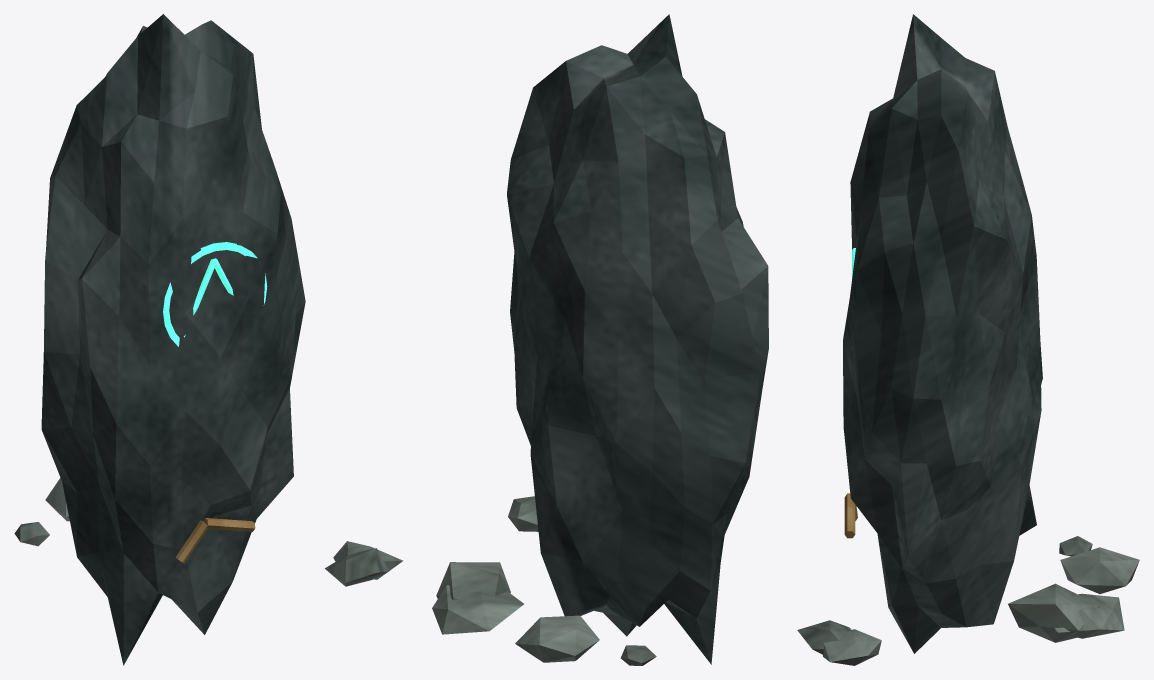
The model's file is 0651_waystone_01.glb.
The picture shows the model from 3 angles, left to right: view 1: azimuth 30°, elevation 25°; view 2: azimuth 150°, elevation 25°; view 3: azimuth 270°, elevation 25°; orthographic projection. The views are drawn at different scales.
Visible parts, largest first — view 1: stone_dark, stone, glow, brass; view 2: stone_dark, stone; view 3: stone_dark, stone, brass.
Part boxes in pixels (x1=…): stone_dark: x1=41, y1=14, x2=305, y2=665; stone: x1=14, y1=478, x2=403, y2=586; glow: x1=163, y1=242, x2=267, y2=346; brass: x1=175, y1=518, x2=255, y2=562; stone_dark: x1=507, y1=14, x2=768, y2=664; stone: x1=432, y1=496, x2=656, y2=665; stone_dark: x1=843, y1=14, x2=1042, y2=653; stone: x1=797, y1=536, x2=1139, y2=665; brass: x1=844, y1=493, x2=857, y2=538.
Size of the model in its own units: 1.28 by 2.59 by 1.28.
Materials: 4 (4 with a texture image).
